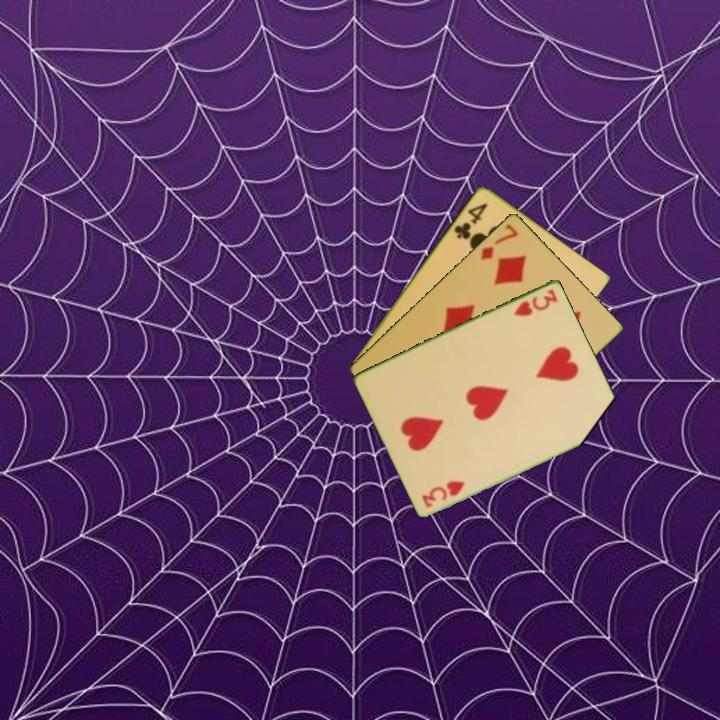3h: (510, 285, 561, 319), (418, 477, 468, 510)
4c: (450, 199, 490, 242)
7d: (477, 220, 521, 263)
